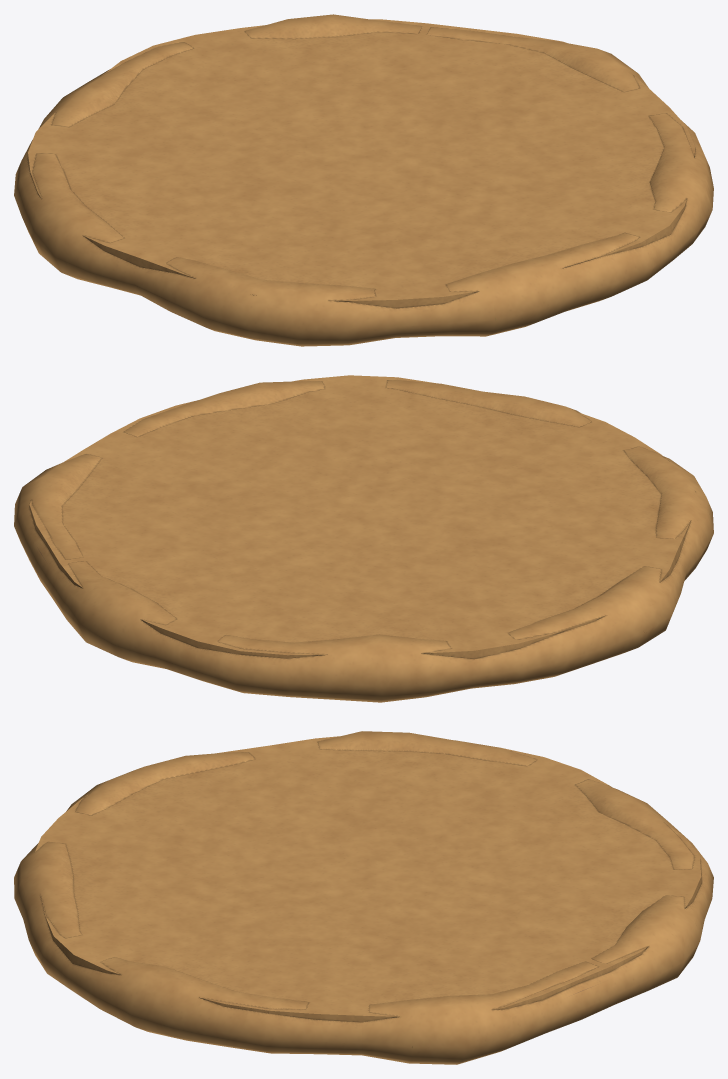
Rendered from Boomerang_65.fbx.
3 views of the same model, one above another, from view 1: azimuth 30°, elevation 25°; view 2: azimuth 150°, elevation 25°; view 3: azimuth 270°, elevation 25° (orthographic).
Visible parts, largest first — view 1: Boomerang_65; view 2: Boomerang_65; view 3: Boomerang_65.
Part boxes in pixels (x1,y1,x2,y2): Boomerang_65: (14,14,713,346); Boomerang_65: (14,375,713,702); Boomerang_65: (14,731,713,1064).
Size of the model in its own units: 198 by 18.17 by 196.
1 material, 1 textured.
